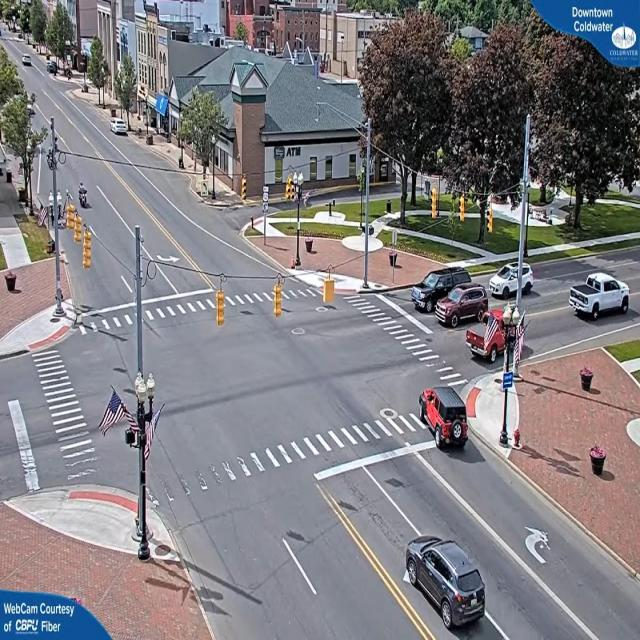car: (404, 537, 490, 633), (570, 268, 630, 322), (420, 387, 468, 453), (416, 265, 476, 308), (439, 285, 494, 327), (463, 311, 516, 354), (489, 267, 524, 298), (111, 119, 129, 136), (23, 56, 34, 67)
motorbike: (76, 186, 88, 208)
